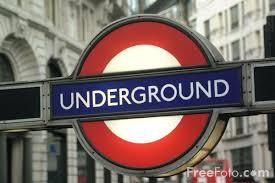London Underground: (56, 18, 241, 170)
